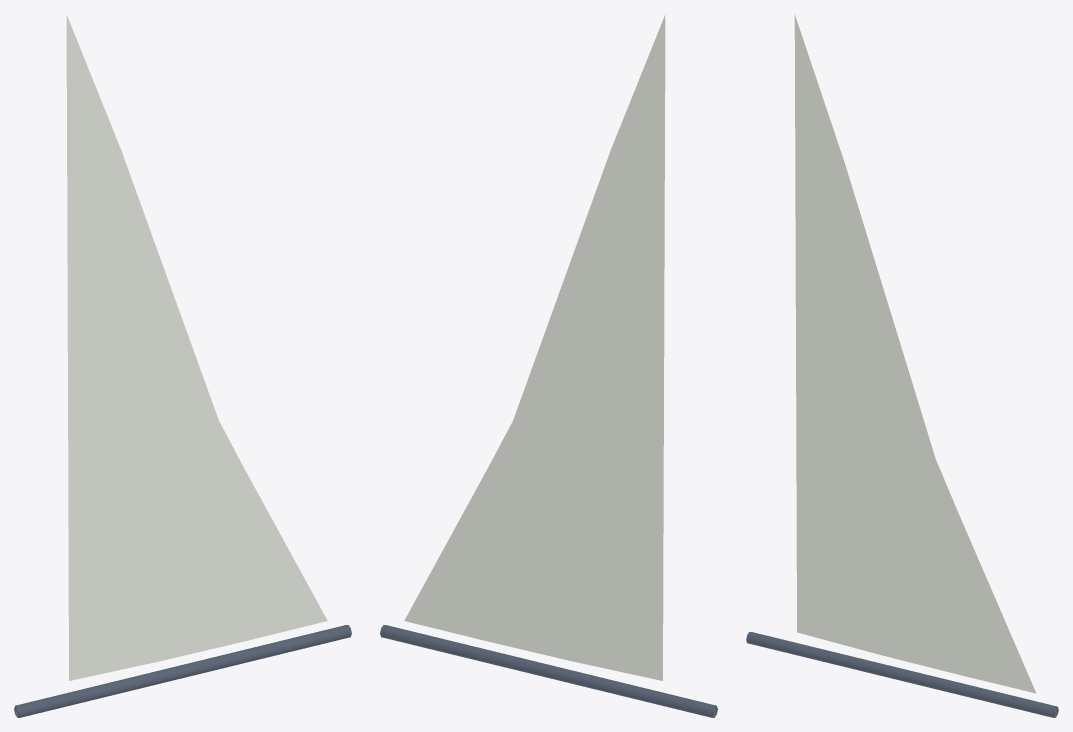
Rendered from sailback.glb.
3 views of the same model, side by side, from view 1: azimuth 30°, elevation 25°; view 2: azimuth 150°, elevation 25°; view 3: azimuth 330°, elevation 25° (orthographic). The views are drawn at different scales.
Visible parts, largest first — view 1: Plane.005, Cylinder.030; view 2: Plane.005, Cylinder.030; view 3: Plane.005, Cylinder.030.
Part boxes in pixels (x1,y1,x2,y2): Plane.005: (66, 15, 327, 680); Cylinder.030: (14, 625, 351, 717); Plane.005: (404, 15, 665, 680); Cylinder.030: (380, 625, 717, 717); Plane.005: (794, 14, 1036, 693); Cylinder.030: (746, 632, 1058, 717).
Bounding box in the file's own units: 0.4768 × 0.9524 × 0.0169.
